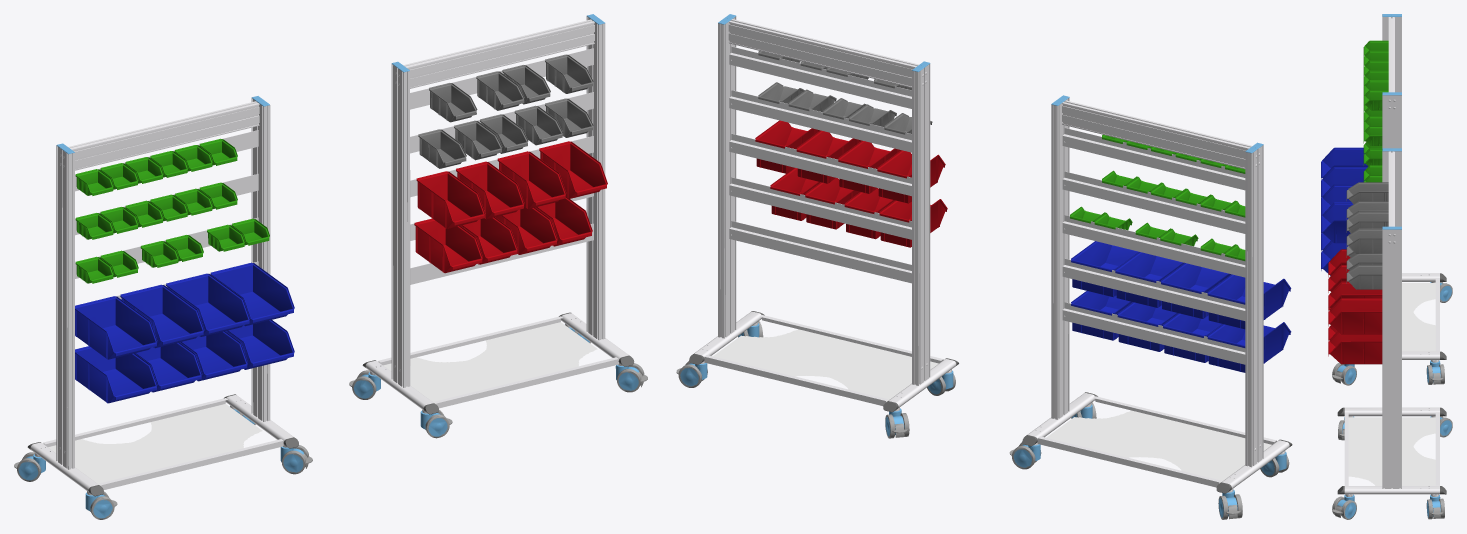
File: Stock_poste_manuel.fbx
3 views of the same model, side by side, from view 1: azimuth 30°, elevation 25°; view 2: azimuth 150°, elevation 25°; view 3: azimuth 270°, elevation 25° (orthographic). The views are drawn at different scales.
Visible parts, largest first — view 1: PosteRavitaillement.001, PosteRavitaillement, BacExtraLarge.004, BacExtraLarge, BacExtraLarge.005, BacExtraLarge.006, BacExtraLarge.007, BacLarge.004, BacLarge, BacLarge.006, BacLarge.007, BacLarge.005 (+20 smaller); view 2: PosteRavitaillement.001, PosteRavitaillement, BacExtraLarge.004, BacExtraLarge, BacExtraLarge.005, BacExtraLarge.006, BacExtraLarge.007, BacLarge.006, BacLarge.007, BacLarge.005, BacExtraLarge.003, BacExtraLarge.002 (+6 smaller); view 3: PosteRavitaillement.001, PosteRavitaillement, BacLarge.007, BacLarge.003, BacExtraLarge.007, BacExtraLarge.004, BacMedium.010, BacMedium.005, BacExtraLarge.005, BacMedium.006, BacMedium.009, BacLarge.006 (+16 smaller).
Boxes of the visible parts, bbox=[...] form: PosteRavitaillement.001: bbox=[349, 14, 647, 438]; PosteRavitaillement: bbox=[14, 96, 312, 519]; BacExtraLarge.004: bbox=[75, 296, 157, 359]; BacExtraLarge: bbox=[75, 346, 157, 403]; BacExtraLarge.005: bbox=[120, 284, 204, 348]; BacExtraLarge.006: bbox=[166, 273, 250, 336]; BacExtraLarge.007: bbox=[210, 262, 294, 326]; BacLarge.004: bbox=[416, 171, 485, 228]; BacLarge: bbox=[414, 218, 482, 273]; BacLarge.006: bbox=[497, 151, 566, 208]; BacLarge.007: bbox=[539, 141, 607, 198]; BacLarge.005: bbox=[456, 161, 524, 219]; PosteRavitaillement.001: bbox=[676, 14, 958, 438]; PosteRavitaillement: bbox=[1009, 95, 1292, 519]; BacExtraLarge.004: bbox=[1207, 274, 1291, 329]; BacExtraLarge: bbox=[1207, 322, 1291, 372]; BacExtraLarge.005: bbox=[1161, 263, 1230, 318]; BacExtraLarge.006: bbox=[1115, 252, 1184, 307]; BacExtraLarge.007: bbox=[1071, 241, 1138, 297]; BacLarge.006: bbox=[796, 130, 861, 183]; BacLarge.007: bbox=[755, 120, 820, 173]; BacLarge.005: bbox=[838, 140, 900, 193]; BacExtraLarge.003: bbox=[1071, 291, 1132, 340]; BacExtraLarge.002: bbox=[1117, 302, 1178, 351]; PosteRavitaillement.001: bbox=[1332, 148, 1452, 519]; PosteRavitaillement: bbox=[1332, 14, 1452, 385]; BacLarge.007: bbox=[1328, 298, 1382, 334]; BacLarge.003: bbox=[1328, 332, 1382, 364]; BacExtraLarge.007: bbox=[1321, 202, 1353, 243]; BacExtraLarge.004: bbox=[1321, 147, 1368, 180]; BacMedium.010: bbox=[1346, 228, 1382, 253]; BacMedium.005: bbox=[1346, 265, 1382, 289]; BacExtraLarge.005: bbox=[1321, 166, 1367, 198]; BacMedium.006: bbox=[1346, 182, 1388, 204]; BacMedium.009: bbox=[1346, 211, 1388, 232]; BacLarge.006: bbox=[1328, 281, 1382, 309].
Size of the model in its own units: 2.73 by 1.6 by 0.6629.
10 materials, 1 textured.
